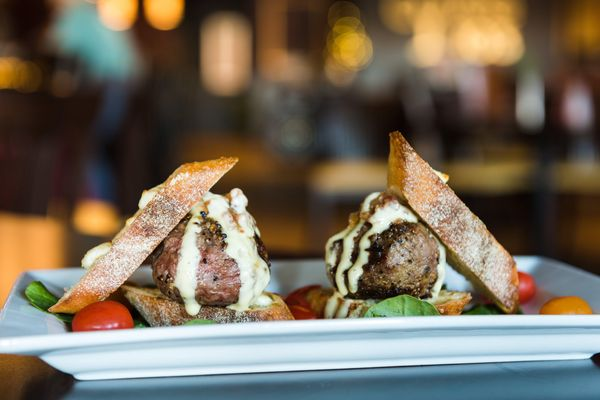soup: (47, 155, 283, 321), (319, 130, 523, 315)
